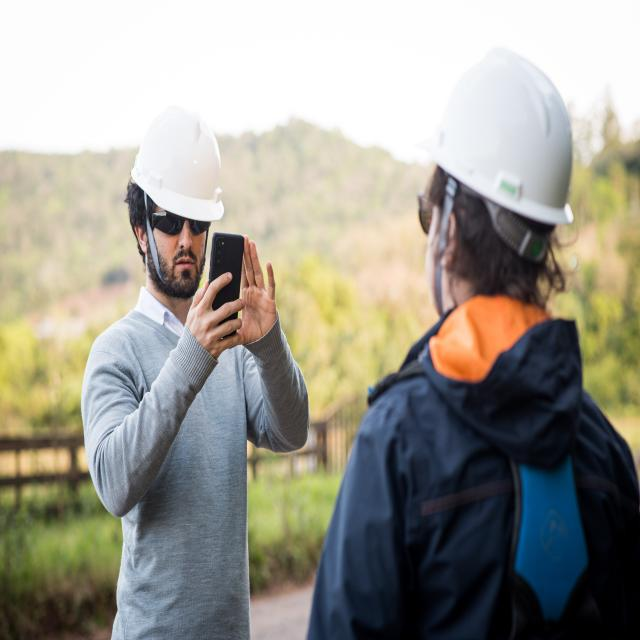capacete: (410, 43, 576, 228), (128, 102, 226, 224)
